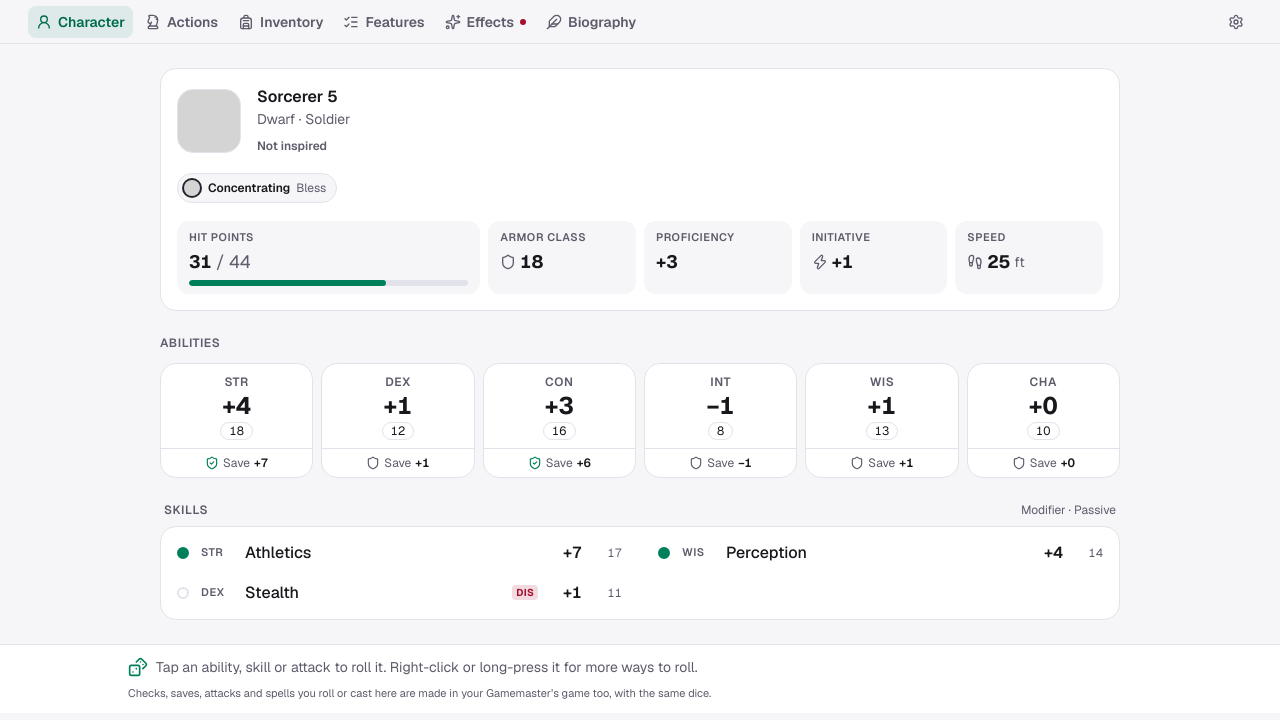
ending concentration, from module 0.29.0 › ends Bless from its open row in Effects, once asked, never from the row itself
Click the tab "Effects" at (485, 22), box [436,6,534,38]
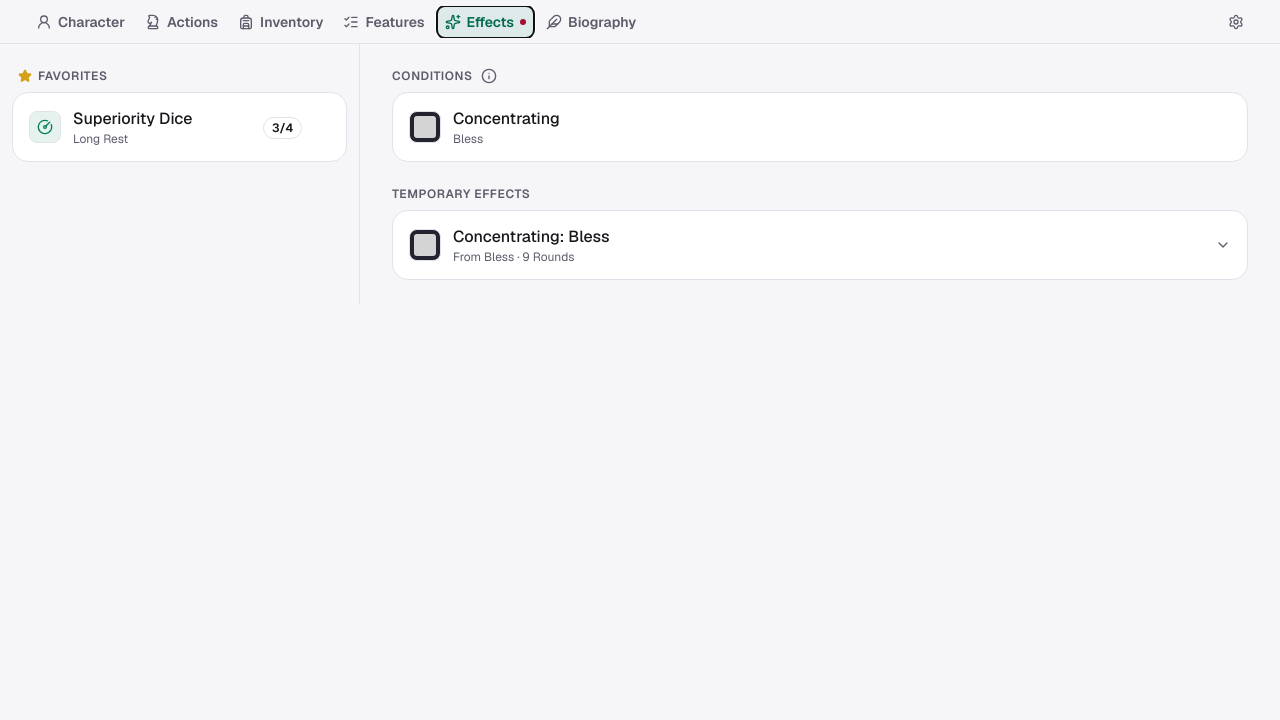
Expected: the button "End" is not shown
Click the text "Concentrating: Bless" at (531, 237), box [453,225,610,249]
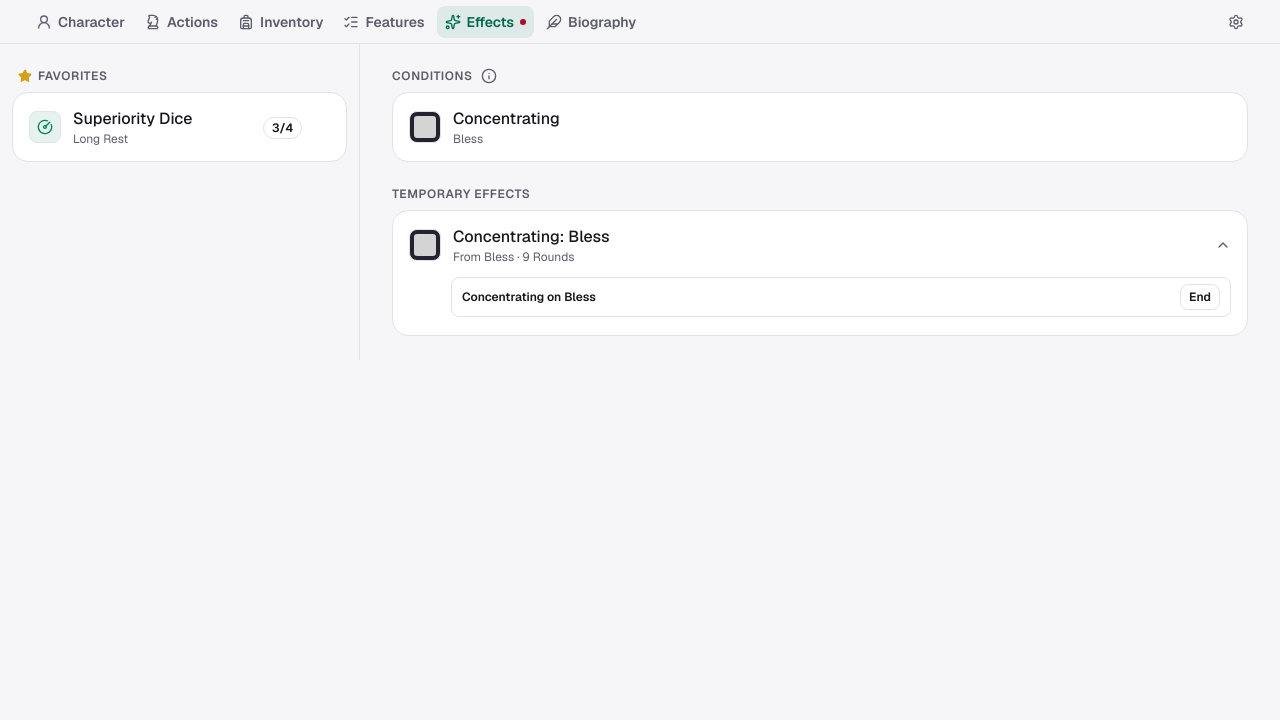
Expected: the button "End concentration on Bless" is not shown
Expected: the text "Concentrating on Bless" is shown, [462,289,596,305]
Expected: the button with aria-label "End concentration on Bless" reads "End"
Click the button with aria-label "End concentration on Bless" at (1200, 297), box [1180,284,1220,310]
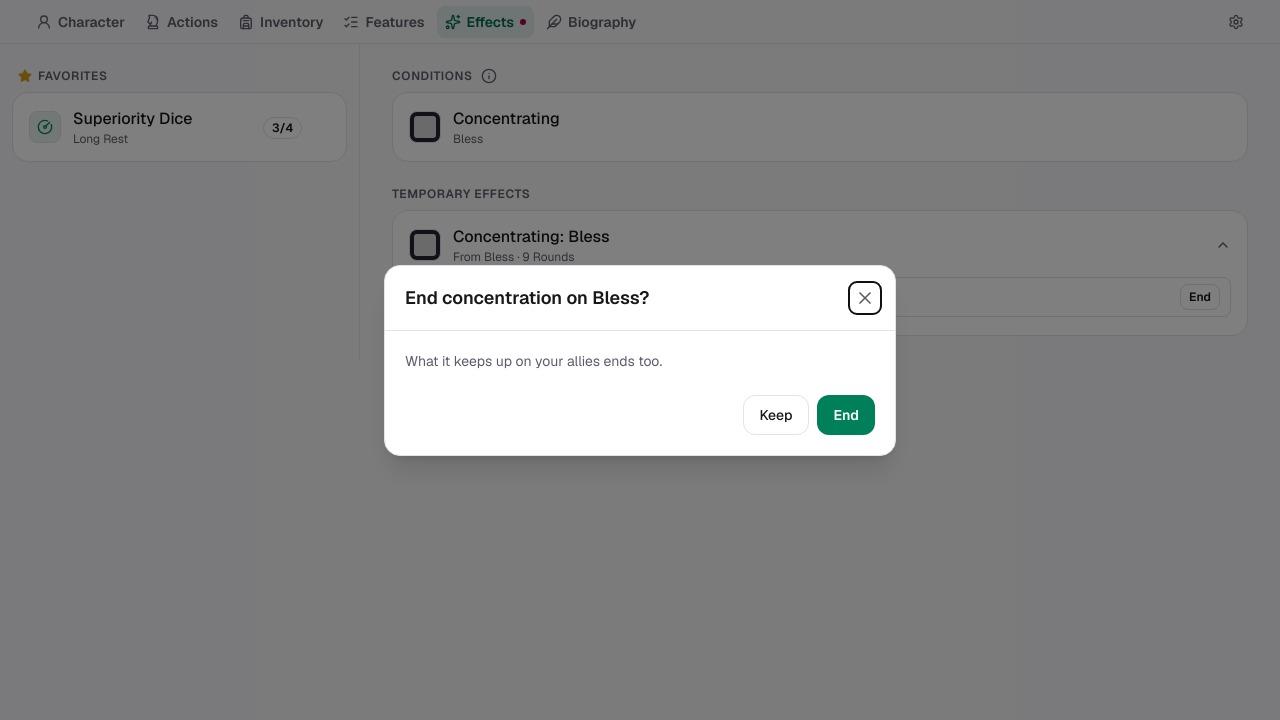
Expected: the dialog "End concentration on Bless?" shows "What it keeps up on your allies ends too.", [405,352,662,370]
Click the button "Keep" at (776, 414), box [743,394,810,434]
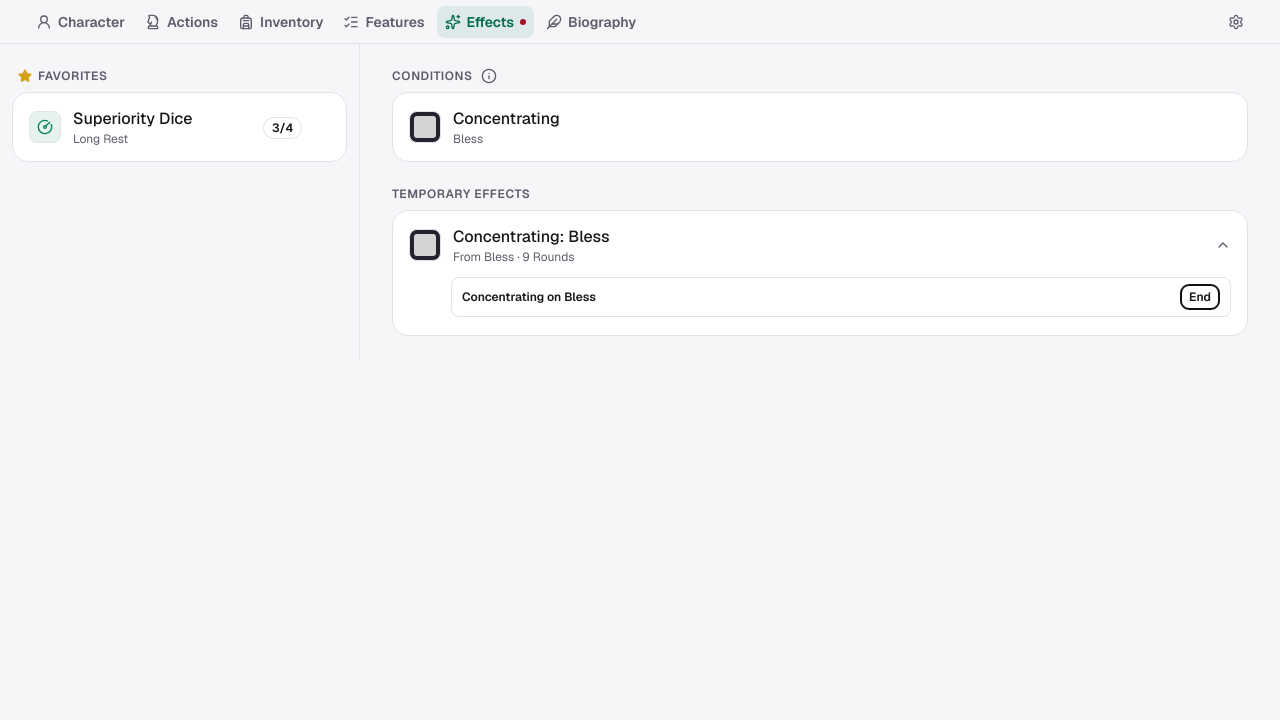
Click the button with aria-label "End concentration on Bless" at (1200, 297), box [1180,284,1220,310]
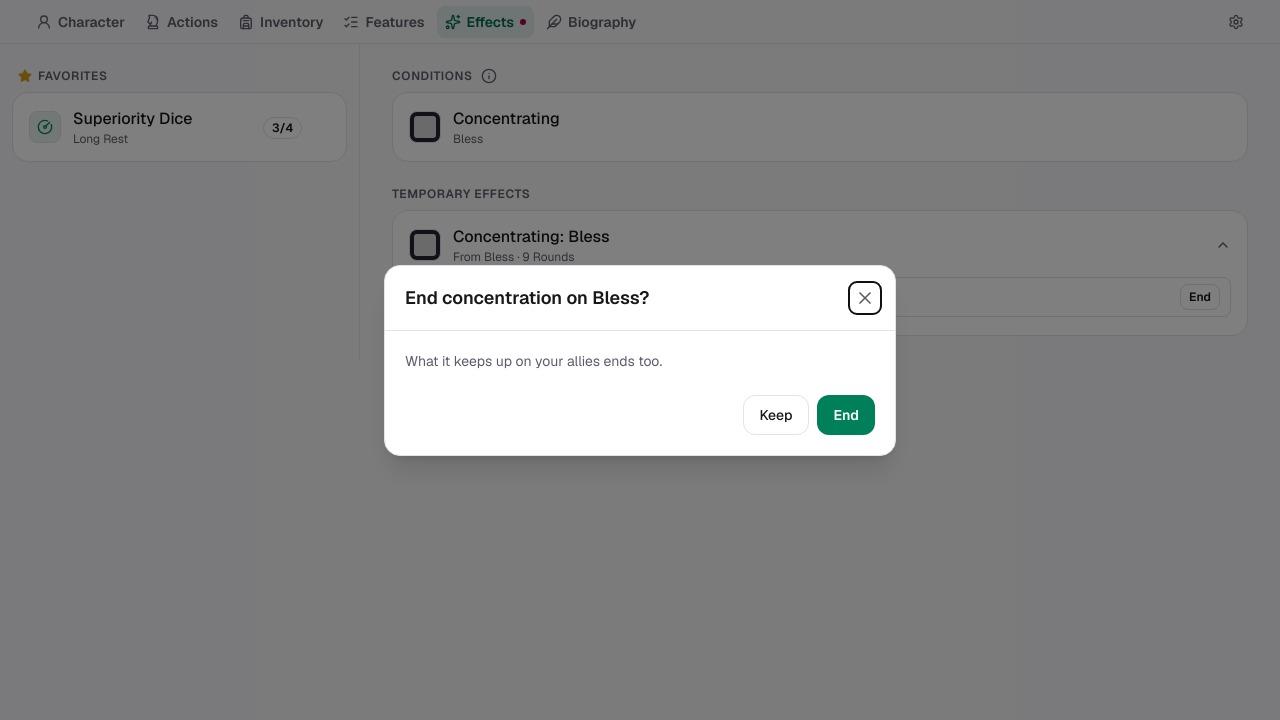
Click the button "End" below "End concentration on Bless?" at (846, 414), box [818,394,875,434]
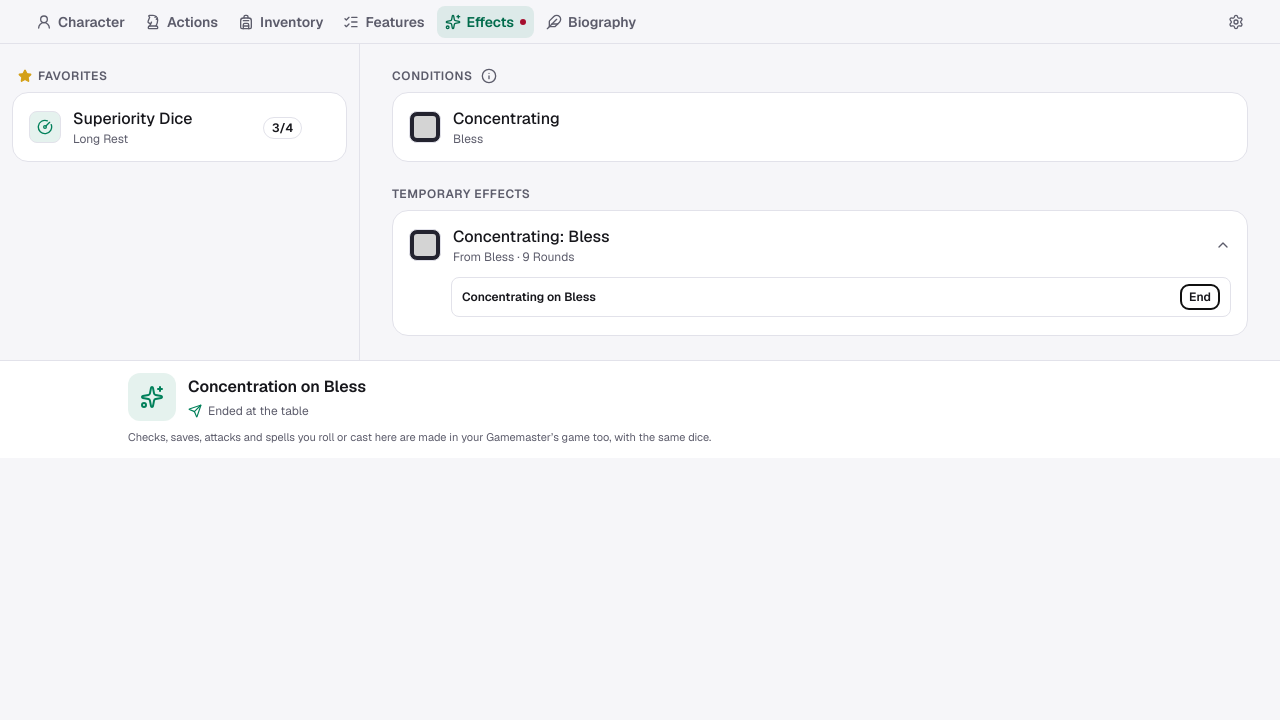
Expected: the message reads "Concentration on Bless Ended at the table", [128,373,366,421]
